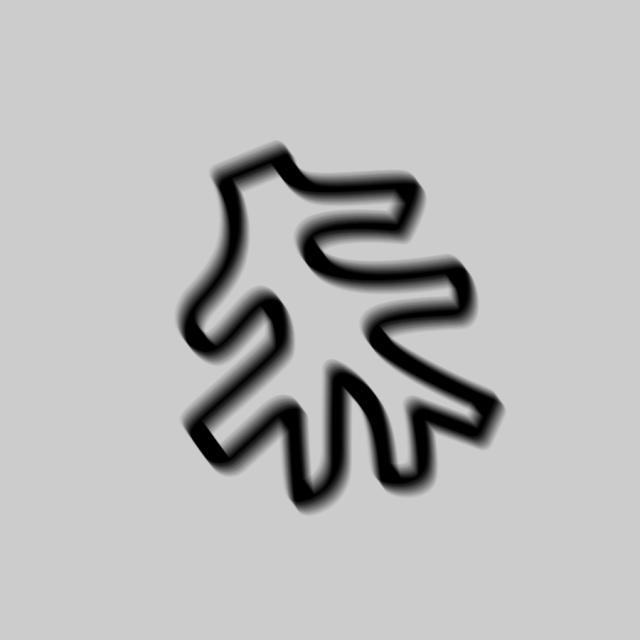coral: (168, 138, 513, 524)
